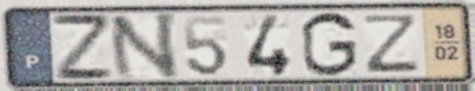4: (243, 11, 295, 78)
5: (181, 14, 232, 78)
G: (298, 9, 360, 79)
N: (106, 10, 181, 83)
Z: (48, 12, 118, 83), (363, 12, 420, 75)
